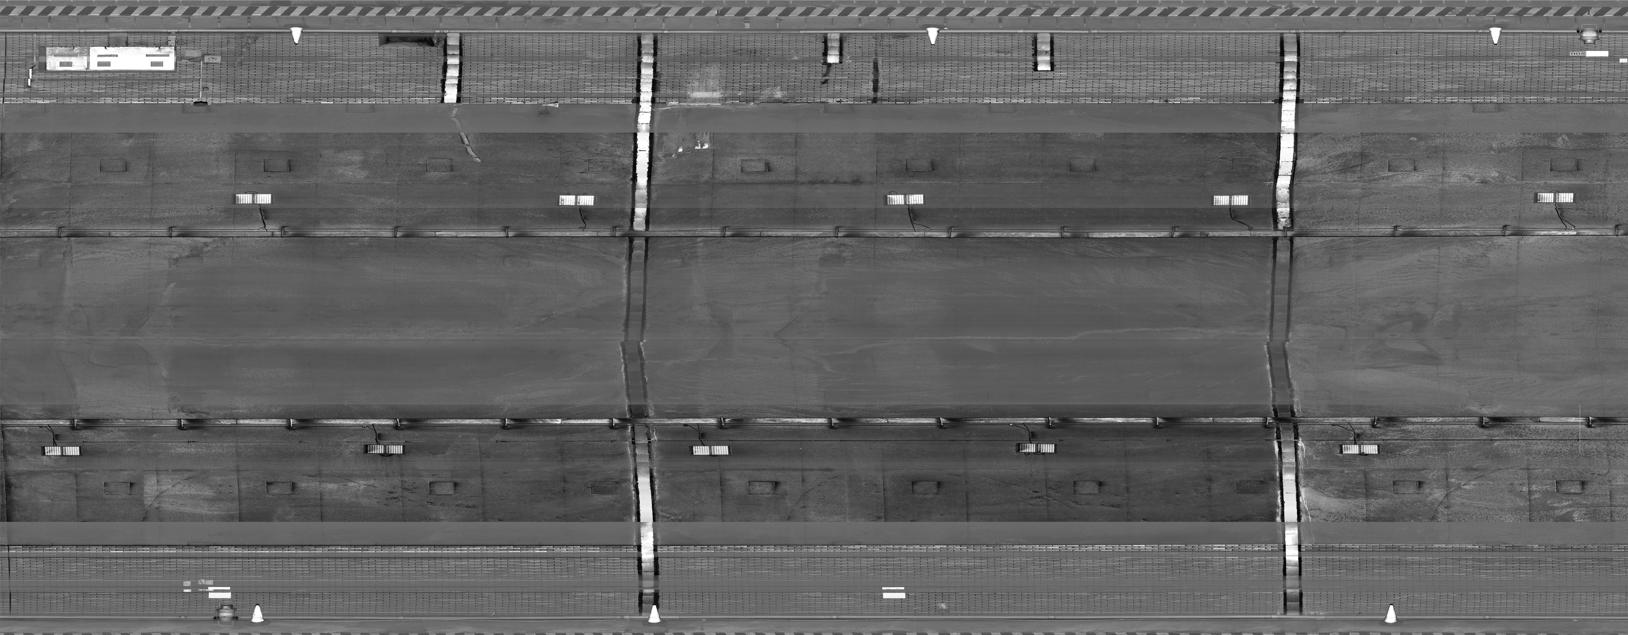light: (880, 188, 931, 209), (1009, 436, 1060, 457), (1206, 191, 1257, 212), (1333, 439, 1384, 460), (1529, 189, 1580, 210), (225, 188, 275, 208), (35, 442, 85, 461), (359, 439, 409, 458), (551, 192, 601, 211), (686, 442, 736, 461)
